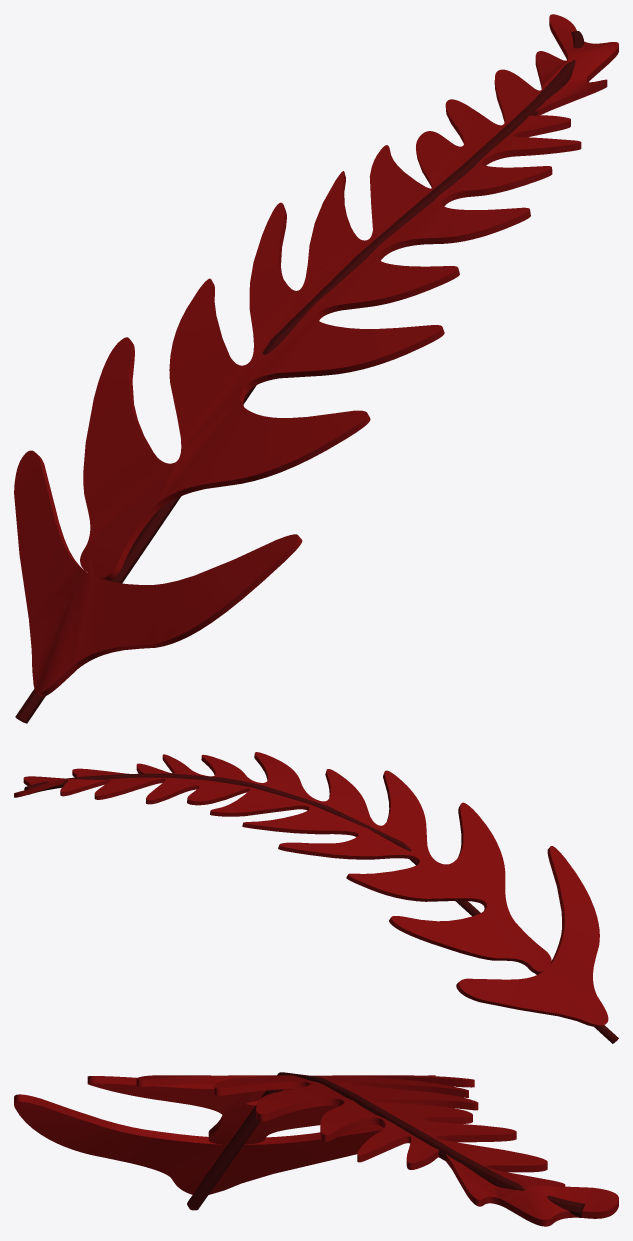
Rendered from Blutfarn.fbx.
3 views of the same model, one above another, from view 1: azimuth 30°, elevation 25°; view 2: azimuth 150°, elevation 25°; view 3: azimuth 270°, elevation 25° (orthographic). The views are drawn at different scales.
Visible parts, largest first — view 1: Null_2; view 2: Null_2; view 3: Null_2.
Part boxes in pixels (x1,y1,x2,y2): Null_2: (14,14,618,723); Null_2: (14,752,618,1043); Null_2: (14,1072,618,1226).
Bounding box in the file's own units: 121 × 56.16 × 81.35.
